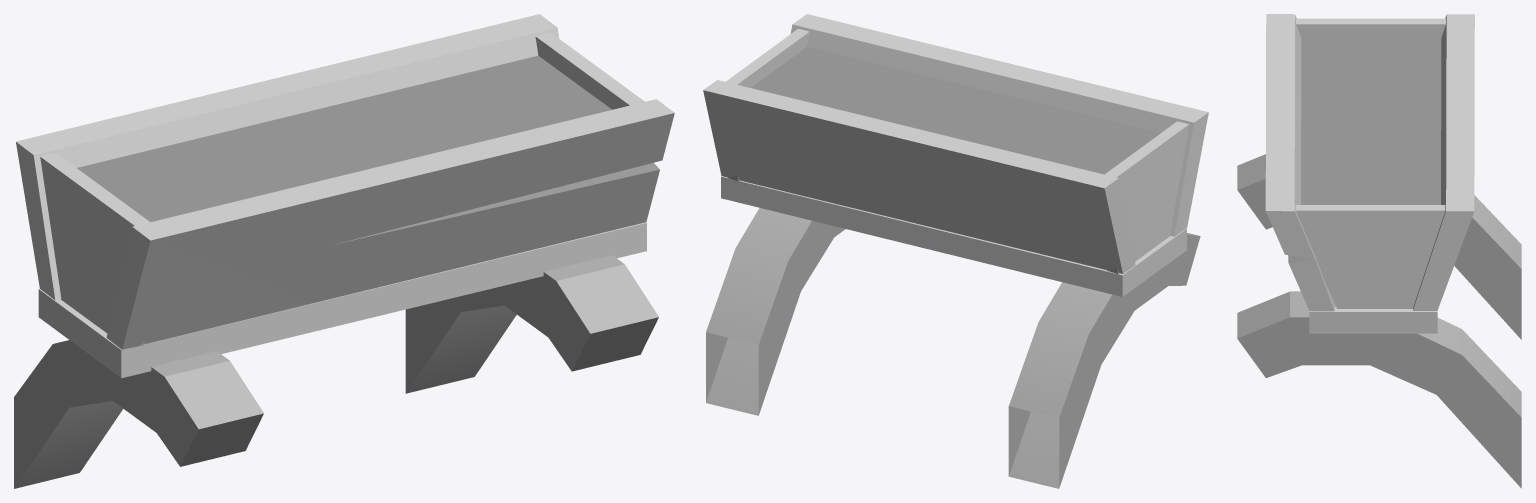
File: PT_Balcony_Planter_04.fbx
3 renders of one model, left to right at view 1: azimuth 30°, elevation 25°; view 2: azimuth 150°, elevation 25°; view 3: azimuth 270°, elevation 25°, orthographic. The views are drawn at different scales.
Visible parts, largest first — view 1: PT_Balcony_Planter_04; view 2: PT_Balcony_Planter_04; view 3: PT_Balcony_Planter_04.
Part boxes in pixels (x1=…): PT_Balcony_Planter_04: x1=14, y1=14, x2=674, y2=488; PT_Balcony_Planter_04: x1=703, y1=14, x2=1208, y2=488; PT_Balcony_Planter_04: x1=1237, y1=14, x2=1521, y2=488.
Bounding box in the file's own units: 84.43 × 58 × 51.43.
Materials: 1 (1 with a texture image).
